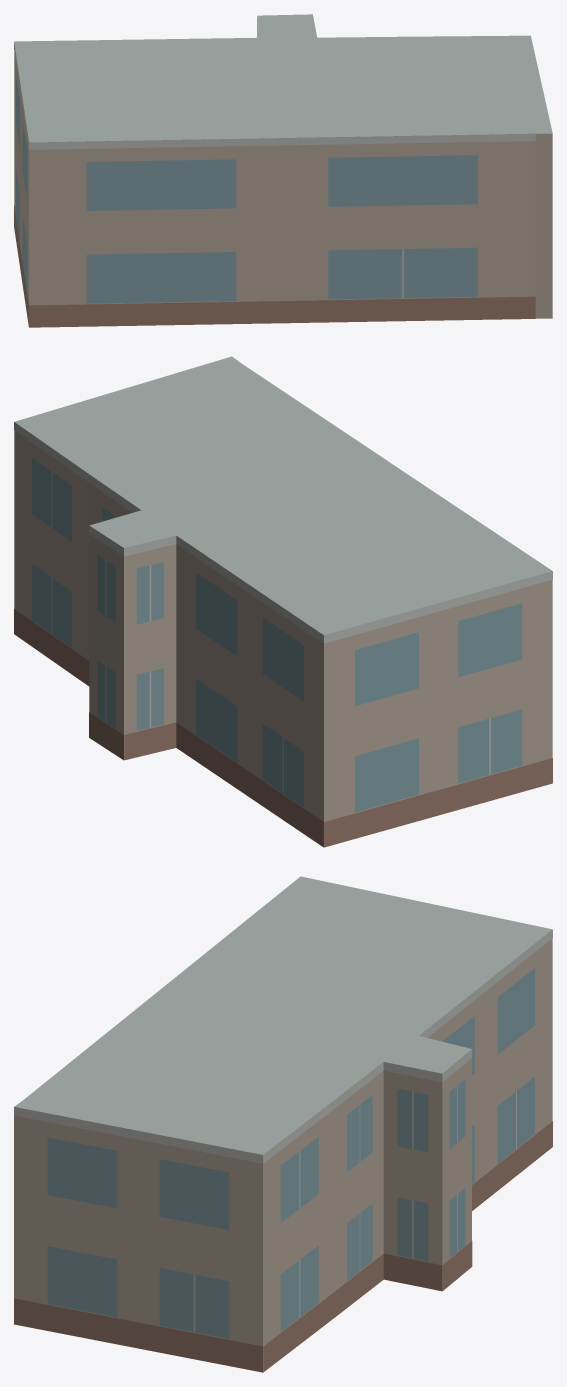
File: survey-upis-32470140.glb
3 renders of one model, top to bottom at view 1: azimuth 30°, elevation 25°; view 2: azimuth 150°, elevation 25°; view 3: azimuth 270°, elevation 25°, orthographic. The views are drawn at different scales.
Parts seen in each view (by area): view 1: survey-upis-32470140.tmp; view 2: survey-upis-32470140.tmp; view 3: survey-upis-32470140.tmp.
Part boxes in pixels (<box>): survey-upis-32470140.tmp: <box>14,14,552,327</box>; survey-upis-32470140.tmp: <box>14,356,552,847</box>; survey-upis-32470140.tmp: <box>14,876,552,1372</box>.
Size of the model in its own units: 16.76 by 6.1 by 13.7.
